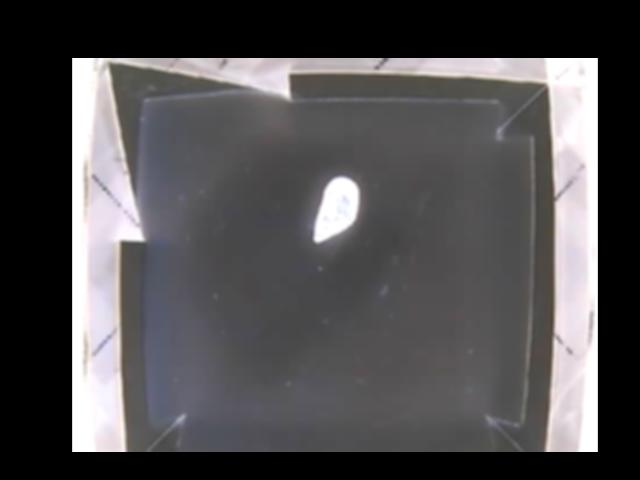Shell: (312, 176, 361, 243)
